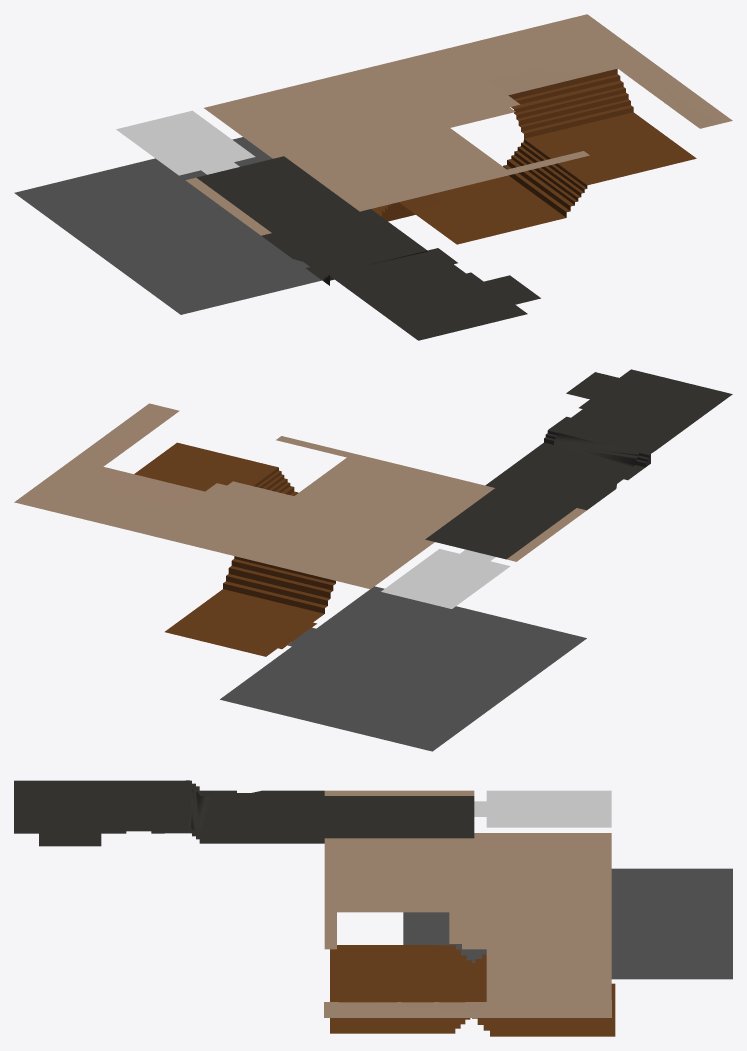
The model's file is Environ_NavMesh.fbx.
The picture shows the model from 3 angles, top to bottom: view 1: azimuth 30°, elevation 25°; view 2: azimuth 150°, elevation 25°; view 3: azimuth 270°, elevation 25°; orthographic projection. The views are drawn at different scales.
Parts seen in each view (by area): view 1: Floor6; view 2: Floor6; view 3: Floor6.
Boxes of the visible parts, x1,y1,x2,y2 form: Floor6: (14, 14, 732, 340); Floor6: (14, 369, 732, 751); Floor6: (14, 780, 732, 1036).
Bounding box in the file's own units: 4.67 × 0.9497 × 5.75.
